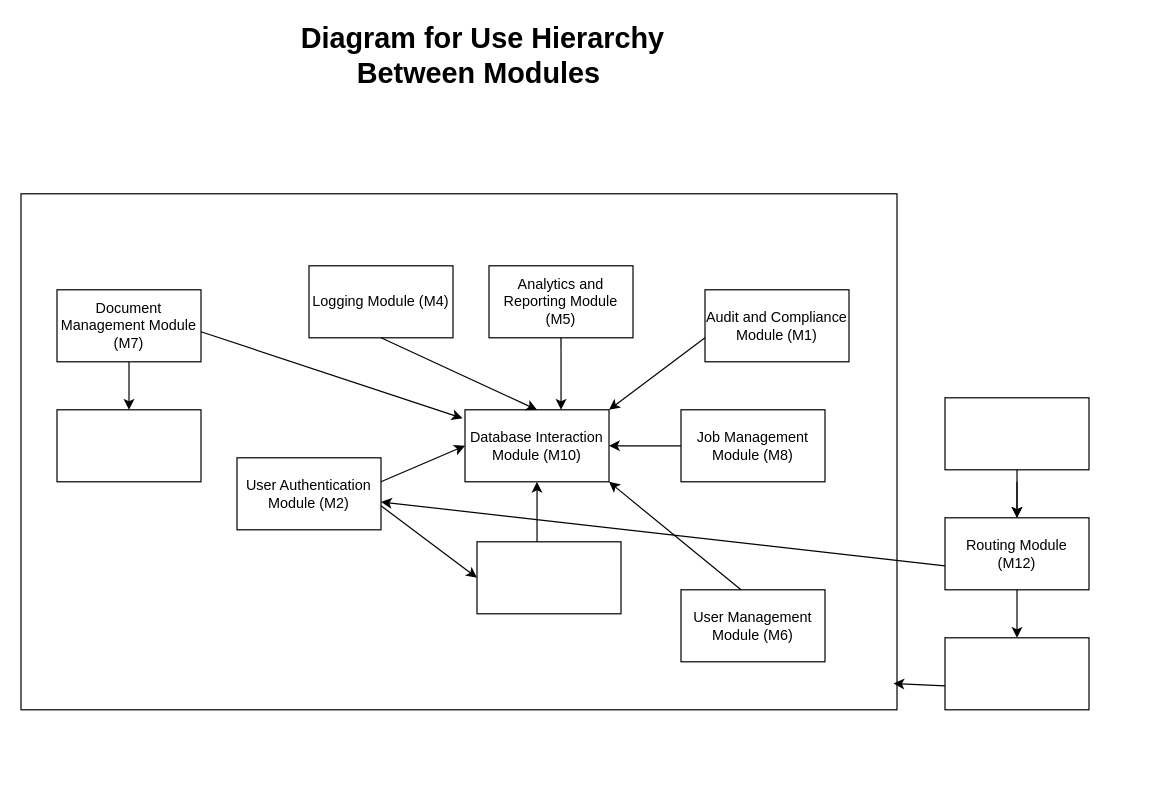
Some shapes in this 1170 by 802 pixel diagram are drawn without their labels. Here are the shapes that lost their labels. From the top down, the centre of each, then its label:
At point 128,445: "File Storage Interaction Module (M11)".
At point 1016,433: "API Integration Module (M9)".
At point 548,577: "Location Verification Module (M3)".
At point 1016,673: "Function Compute Module (M13)".
